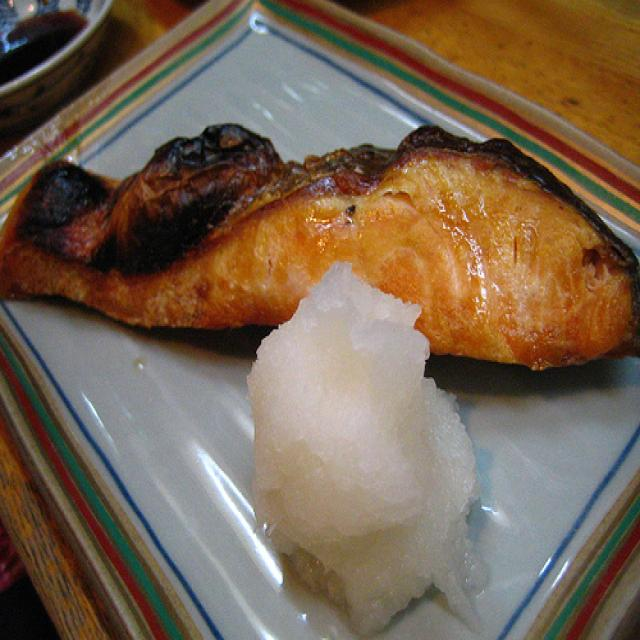熟制海鲜: (0, 111, 640, 387)
